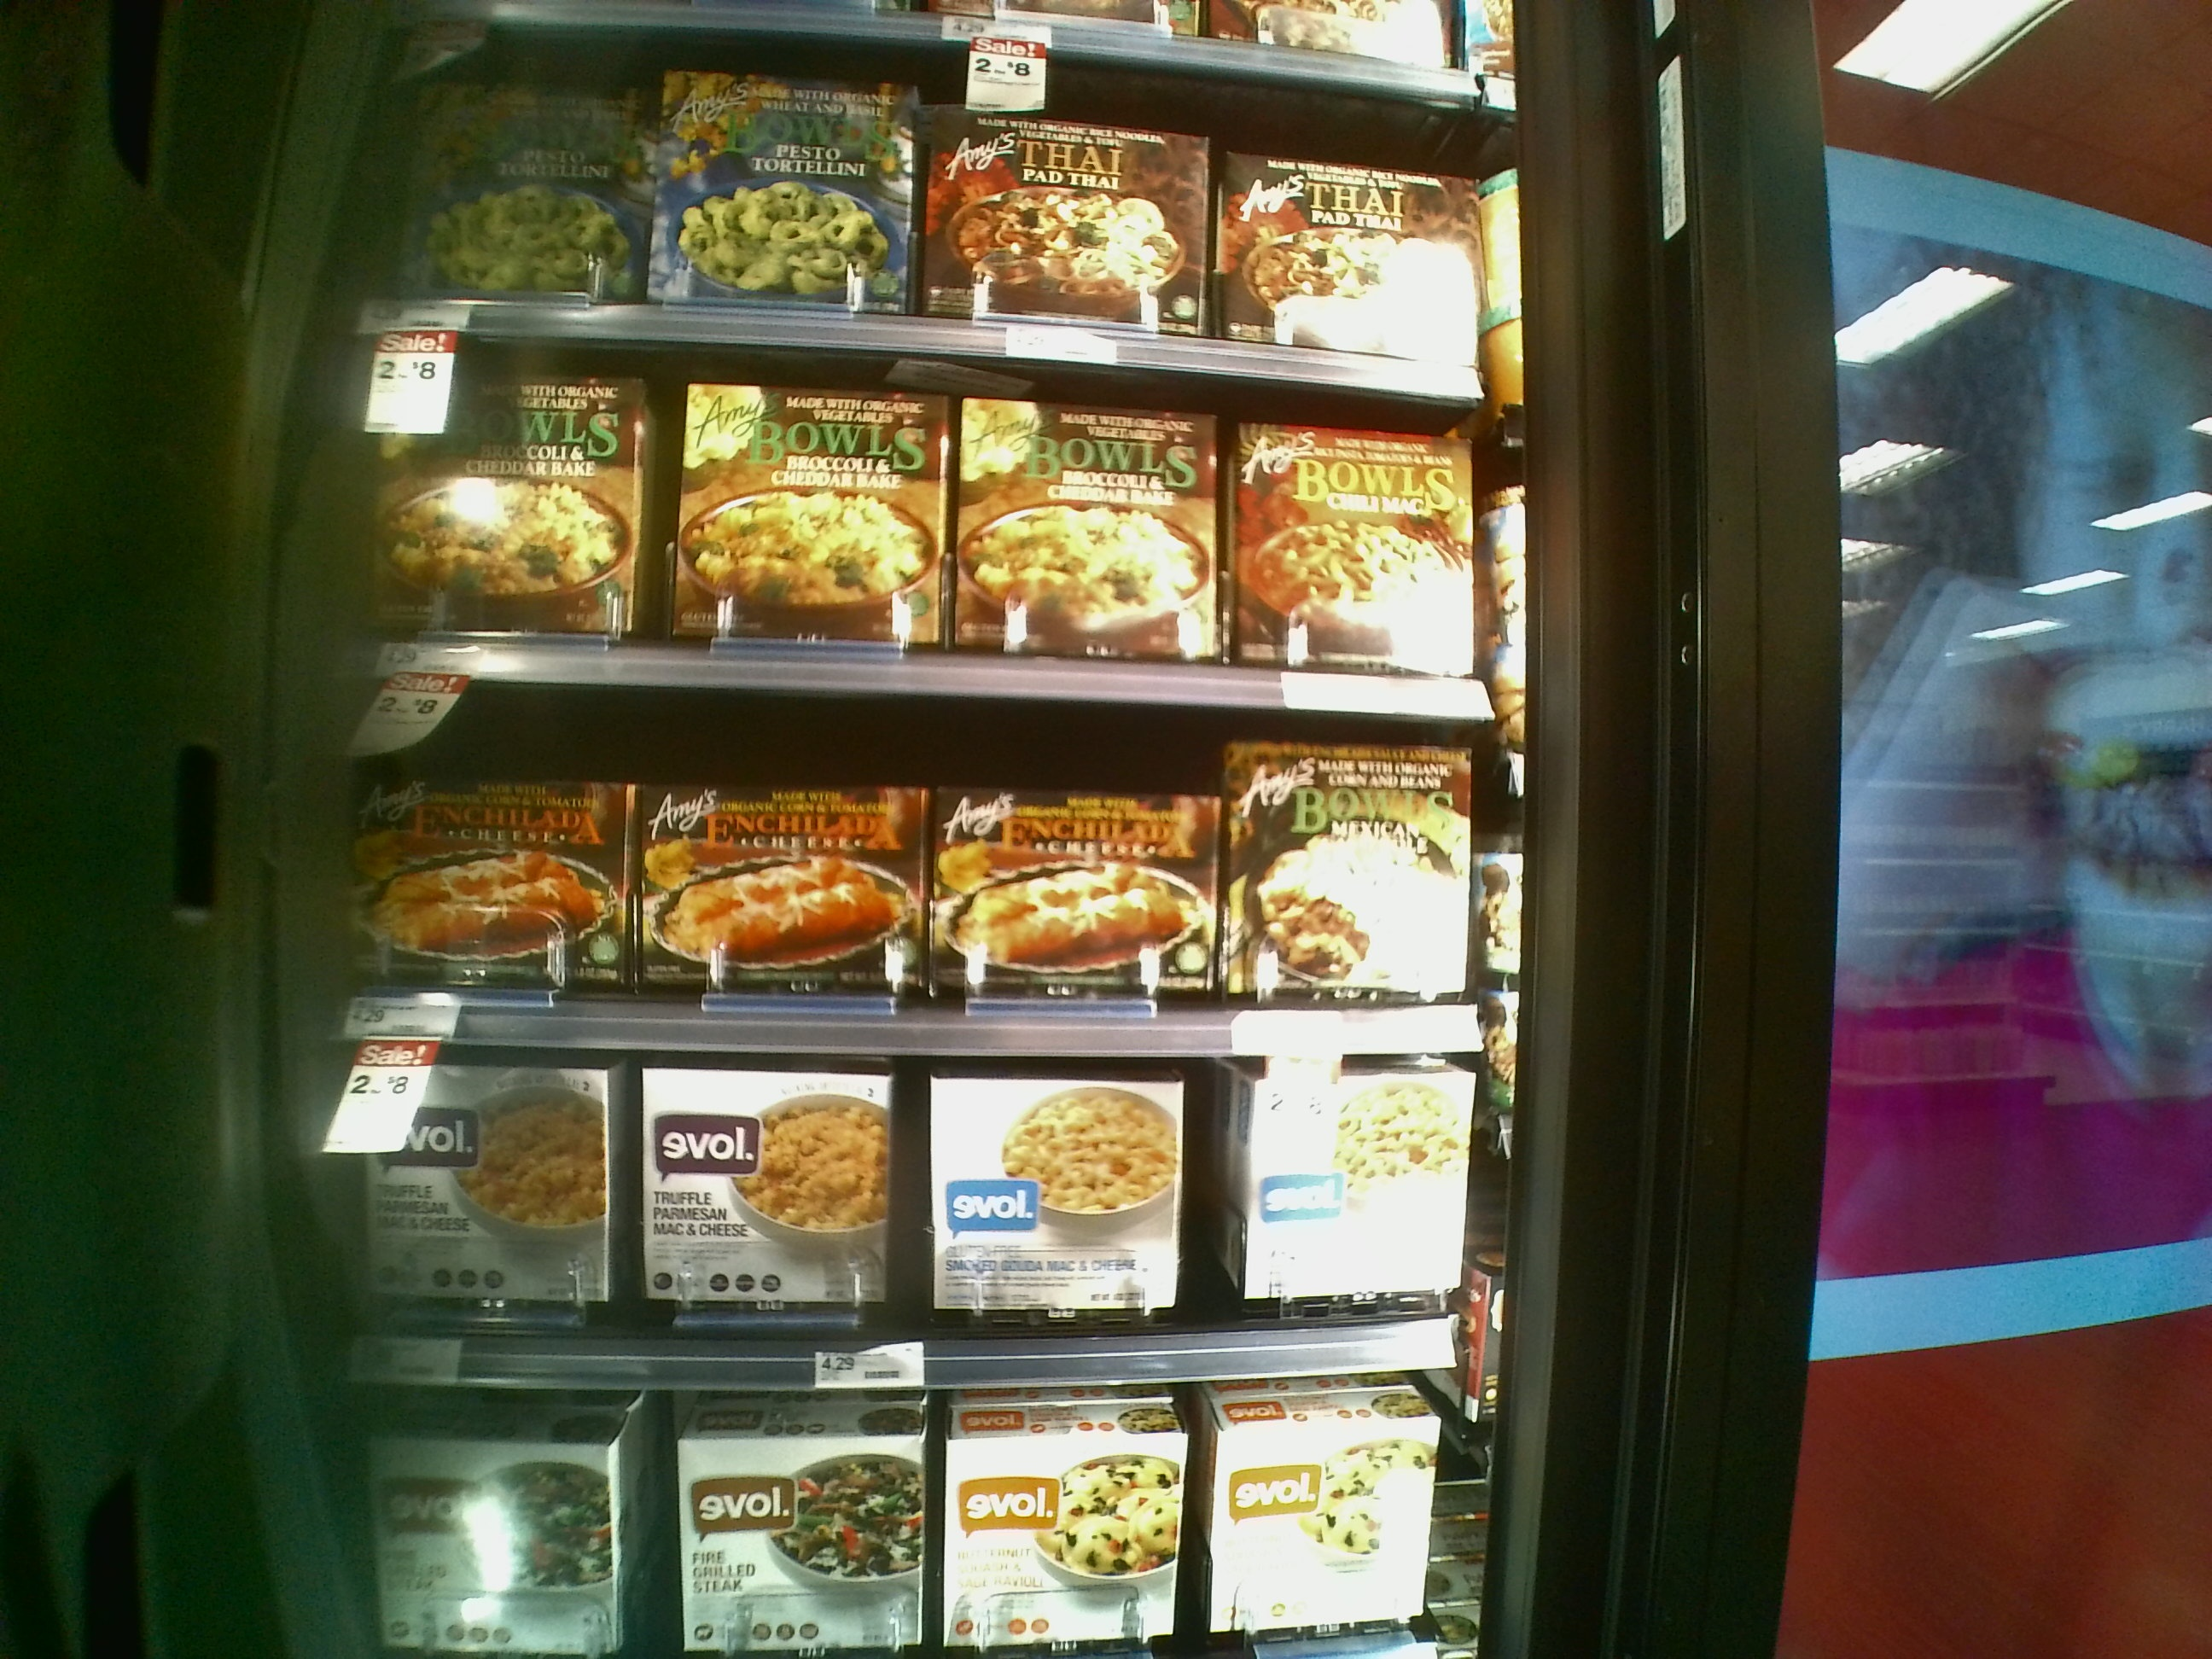shelf: (364, 340, 1519, 725), (352, 699, 1498, 1058), (326, 1040, 1470, 1380), (383, 23, 1503, 349), (347, 1385, 1456, 1659)
